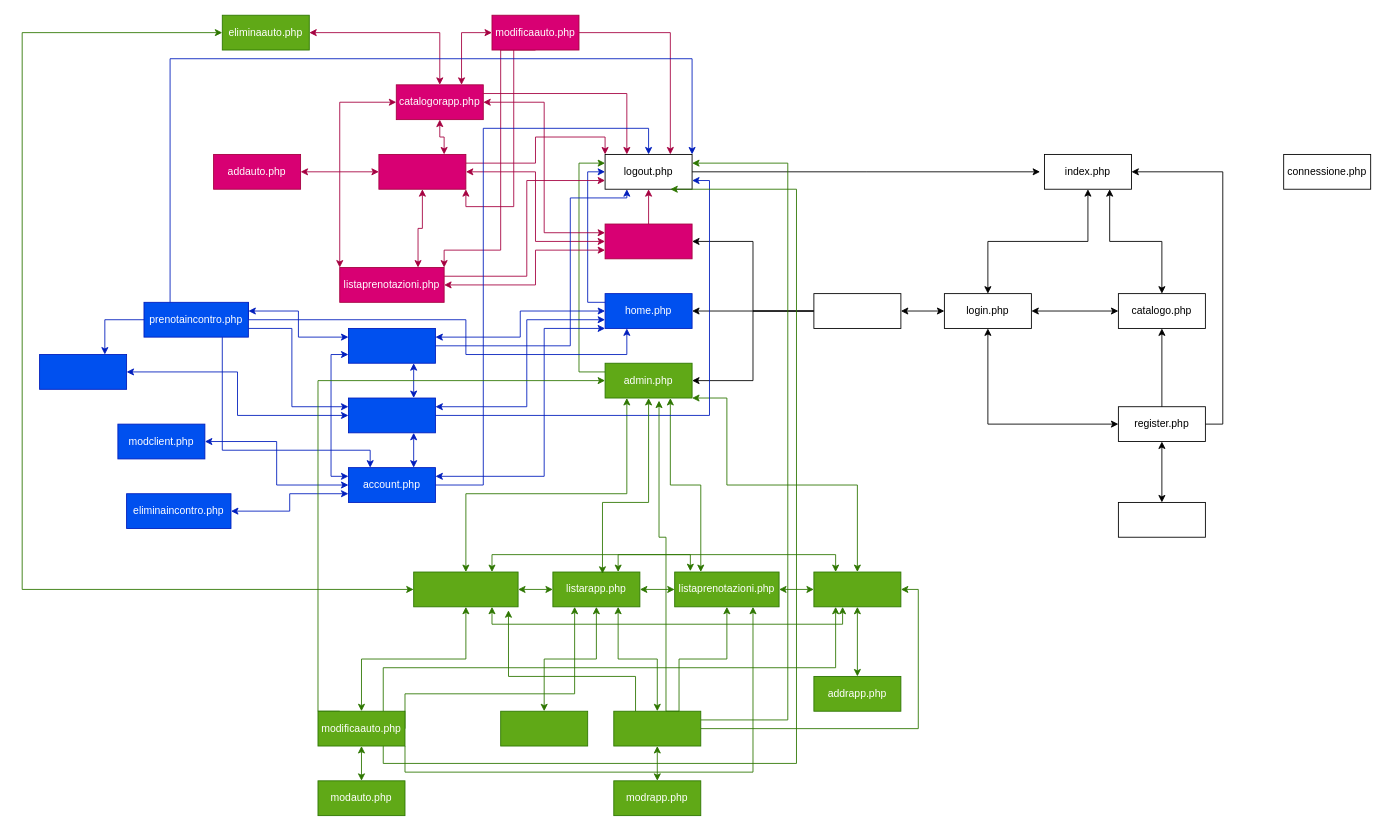
Image size: 1386x831. Some labels were removed from this diagram. The shapes that lost their labels are listed below. From the top down, each one's box as (x1, y1, x2, y2) in pixels, then its label:
(378, 154, 466, 189): aggiungiauto.php
(604, 223, 692, 259): homerapp.php
(813, 293, 901, 328): auth.php
(348, 328, 435, 363): catalogoclienti.php
(39, 354, 127, 389): prenotaz.php
(348, 397, 435, 433): prenotazione.php
(1118, 502, 1205, 537): reg.php
(413, 571, 518, 607): catalogoadmin.php
(813, 571, 901, 607): aggiungirapp.php
(500, 710, 588, 746): eliminarapp.php
(613, 710, 701, 746): modificarapp.php
